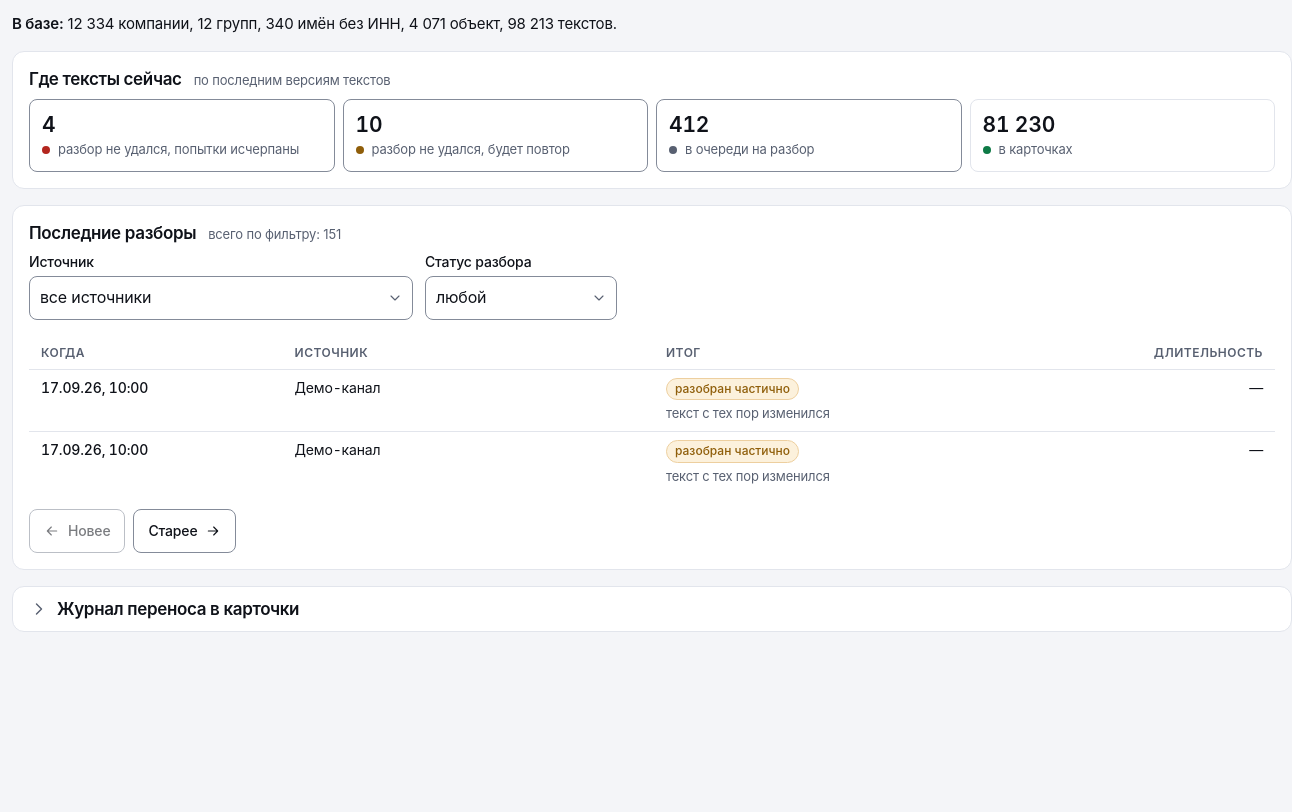
Scenario: «Обработка»: список разборов › «Старее» запрашивает следующую страницу по beforeId; неизвестная длительность — прочерк, а не ноль
This screenshot has width=1292, height=812.
Expected: the text "всего по фильтру: 151" is shown, [208,225,341,244]
Expected: the text "текст с тех пор изменился" is shown 2 times, [666,405,830,421]; [666,468,830,484]
What coordinates should you click on to do the following:
click the button "Старее"
I would click on:
 (185, 531)
Its box is [134,509,236,553].
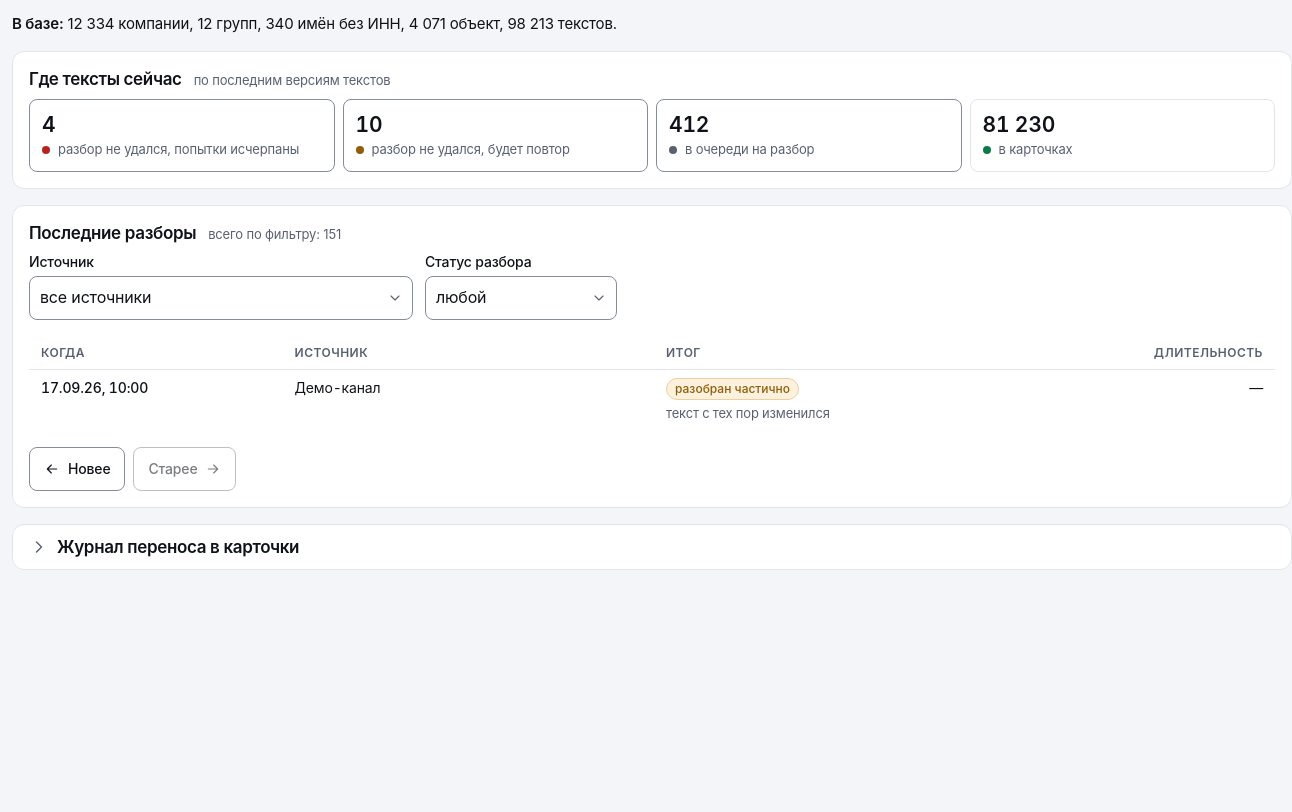
Expected: the link named "Разбор от" is shown, [41,379,148,396]
Expected: the button "Новее" is enabled, [29,447,126,491]
